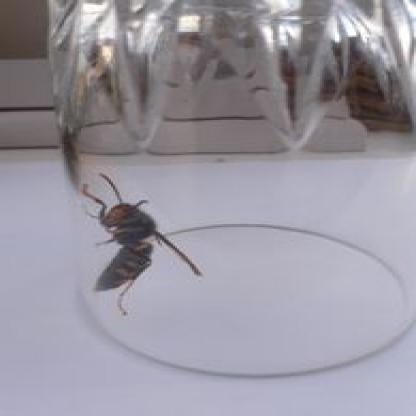Asian Hornet: (72, 168, 211, 321)
